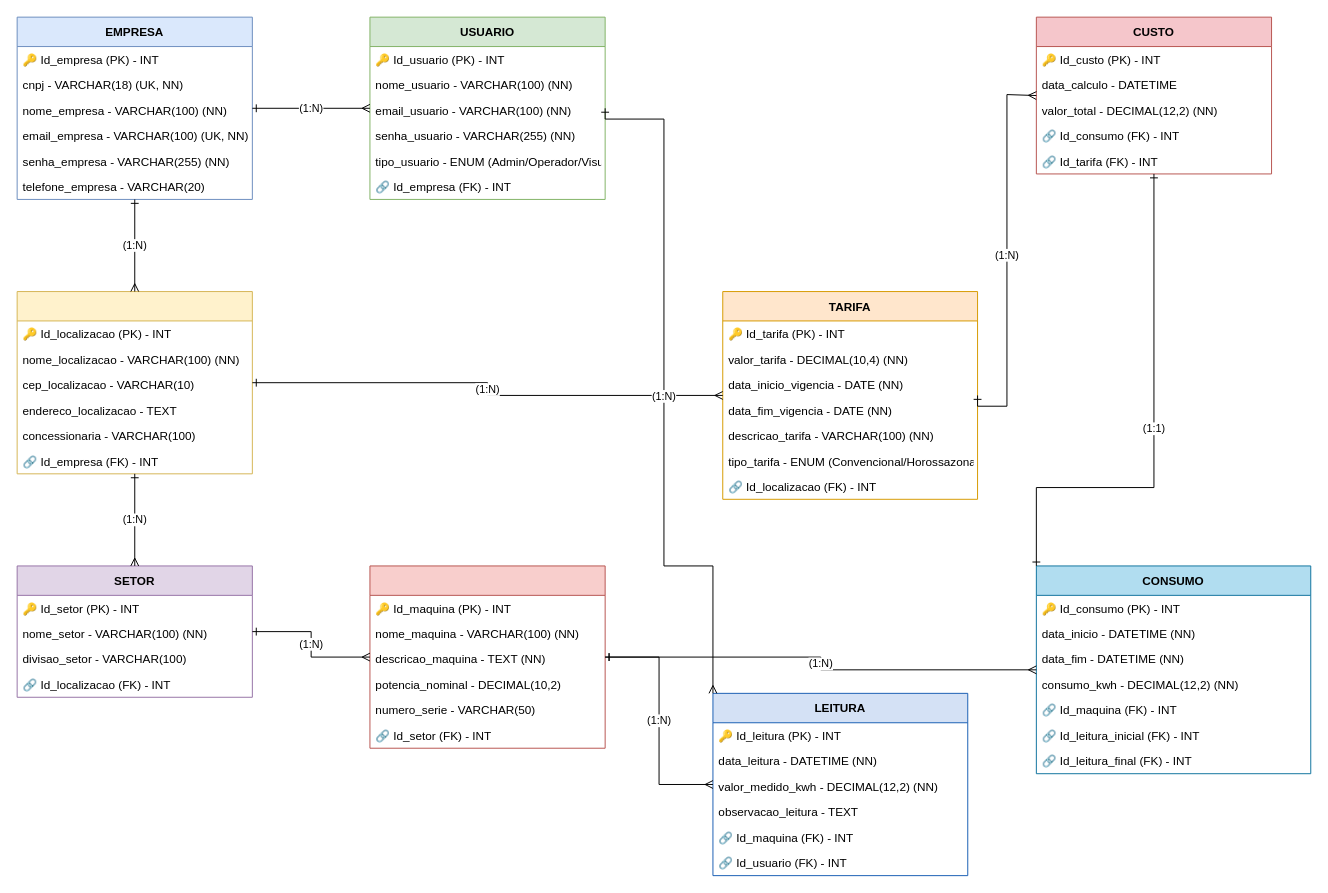
This 1328x893 diagram has some shape labels left out. The shapes that lost their labels are listed below. From the top down, each one's box as (x1, y1, x2, y2) in pixels, then its label:
(16, 291, 252, 474): LOCALIZAÇÃO
(369, 565, 605, 748): MÁQUINA
